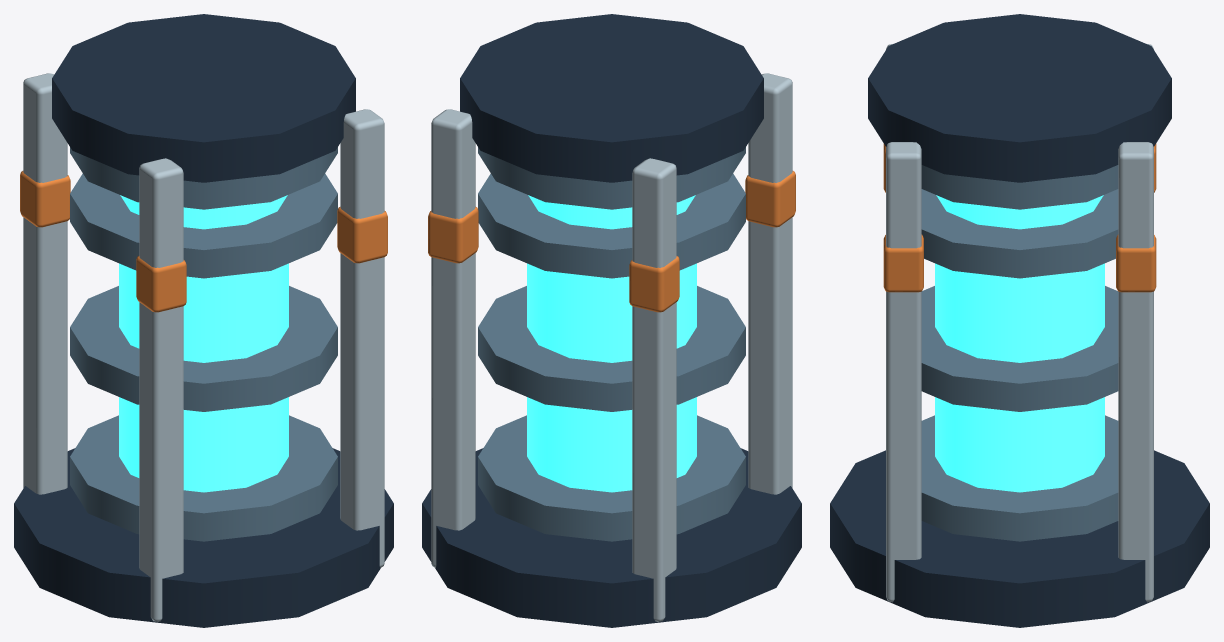
Rendered from reactor.glb.
3 views of the same model, side by side, from view 1: azimuth 30°, elevation 25°; view 2: azimuth 150°, elevation 25°; view 3: azimuth 270°, elevation 25° (orthographic).
Visible parts, largest first — view 1: cap, foundation, core, support--0.52-0.52, support-0.52-0.52, support--0.52--0.52, ring-0.38, ring-1.02, ring-1.68, ring-2.02, band--0.52-0.52, band-0.52-0.52 (+1 smaller); view 2: cap, foundation, core, support--0.52--0.52, support-0.52--0.52, support--0.52-0.52, ring-0.38, ring-1.02, ring-1.68, ring-2.02, band--0.52--0.52, band-0.52--0.52 (+1 smaller); view 3: cap, foundation, core, support-0.52--0.52, support-0.52-0.52, ring-0.38, ring-1.02, ring-1.68, ring-2.02, band-0.52--0.52, band-0.52-0.52.
Boxes of the visible parts, x1,y1,x2,y2 form: cap: [52, 14, 355, 182]; foundation: [14, 448, 393, 627]; core: [119, 195, 288, 492]; support--0.52-0.52: [139, 158, 183, 621]; support-0.52-0.52: [340, 109, 384, 567]; support--0.52--0.52: [23, 73, 67, 494]; ring-0.38: [70, 415, 337, 541]; ring-1.02: [70, 286, 337, 411]; ring-1.68: [70, 173, 337, 278]; ring-2.02: [70, 147, 337, 209]; band--0.52-0.52: [136, 256, 186, 312]; band-0.52-0.52: [337, 207, 387, 263]; cap: [460, 14, 763, 182]; foundation: [422, 448, 801, 627]; core: [527, 195, 696, 492]; support--0.52--0.52: [632, 158, 676, 621]; support-0.52--0.52: [431, 109, 475, 567]; support--0.52-0.52: [748, 73, 792, 494]; ring-0.38: [478, 415, 745, 541]; ring-1.02: [478, 286, 745, 411]; ring-1.68: [478, 173, 745, 278]; ring-2.02: [478, 147, 745, 209]; band--0.52--0.52: [629, 256, 679, 312]; band-0.52--0.52: [428, 207, 478, 263]; cap: [868, 14, 1171, 182]; foundation: [830, 450, 1209, 627]; core: [935, 195, 1104, 492]; support-0.52--0.52: [1118, 142, 1153, 602]; support-0.52-0.52: [886, 142, 921, 602]; ring-0.38: [921, 415, 1118, 541]; ring-1.02: [921, 286, 1118, 411]; ring-1.68: [921, 189, 1118, 278]; ring-2.02: [921, 165, 1118, 209]; band-0.52--0.52: [1116, 234, 1156, 292]; band-0.52-0.52: [883, 234, 923, 292].
Size of the model in its own units: 1.7 by 2.32 by 1.7.
